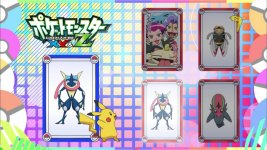greninja: (52, 70, 90, 128), (149, 89, 176, 133)
pikachu: (80, 98, 120, 146)
